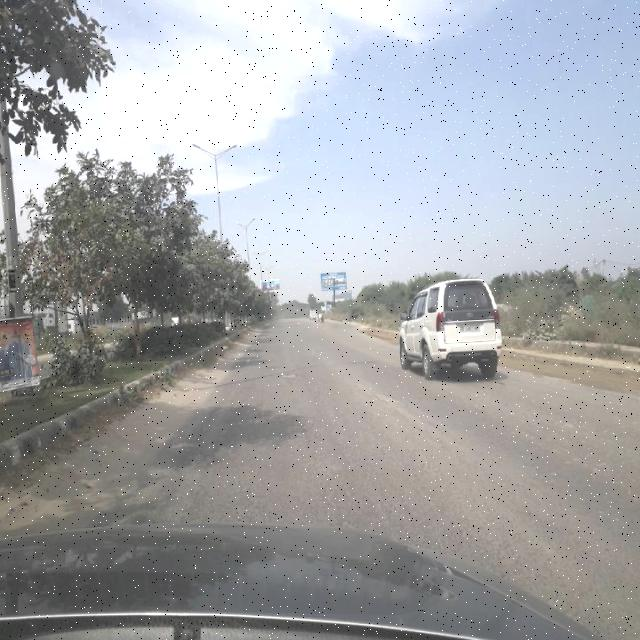D00: (310, 340, 335, 362)
D20: (150, 406, 599, 548)
D40: (378, 386, 406, 406), (280, 365, 305, 384)
